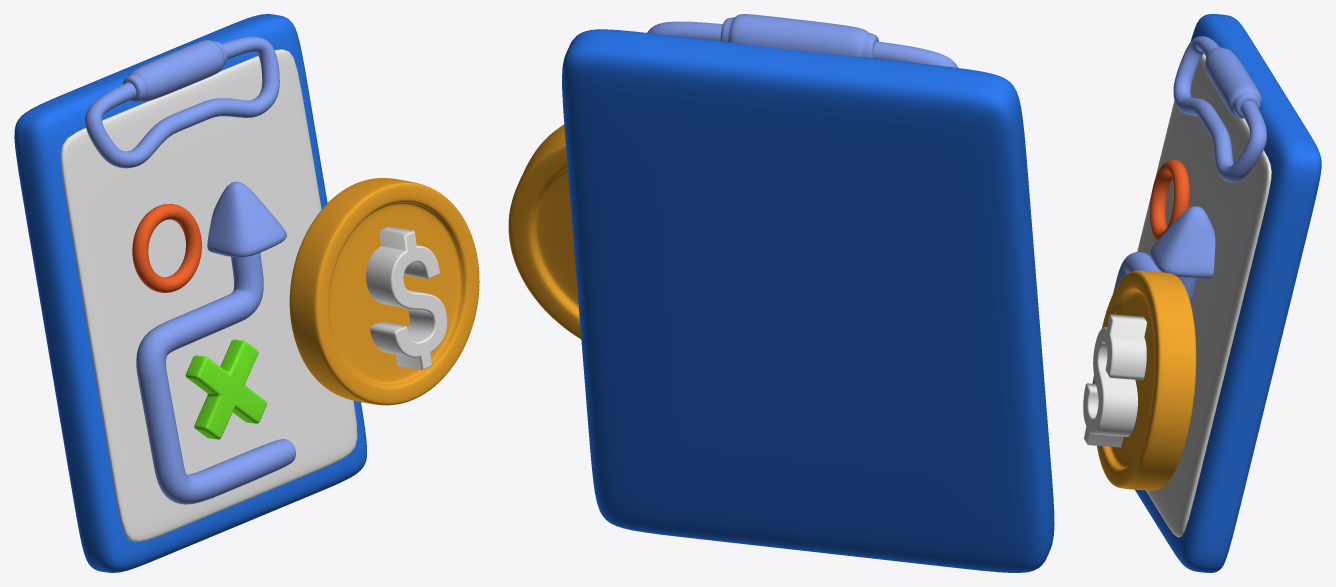
Rendered from pricing-strategy-3d-animated-icon-514913754821.glb.
The picture shows the model from 3 angles, left to right: view 1: azimuth 30°, elevation 25°; view 2: azimuth 150°, elevation 25°; view 3: azimuth 270°, elevation 25°; orthographic projection. The views are drawn at different scales.
Visible parts, largest first — view 1: board, coin, line, Clip arm, icon money, x, o, paper; view 2: board, coin, Clip arm; view 3: board, coin, Clip arm, icon money, line, o.
Boxes of the visible parts, <box> form: board: <box>14,14,366,572</box>; coin: <box>289,178,479,405</box>; line: <box>136,181,295,504</box>; Clip arm: <box>85,36,279,168</box>; icon money: <box>366,226,447,370</box>; x: <box>185,339,266,439</box>; o: <box>132,204,201,292</box>; paper: <box>60,49,352,538</box>; board: <box>562,29,1054,572</box>; coin: <box>508,124,581,339</box>; Clip arm: <box>647,14,958,67</box>; board: <box>1135,14,1321,572</box>; coin: <box>1094,270,1196,490</box>; Clip arm: <box>1173,36,1266,182</box>; icon money: <box>1083,314,1146,447</box>; line: <box>1092,206,1215,383</box>; o: <box>1150,159,1189,240</box>.
Size of what is drawn, in the model's own units: 2.93 by 2.94 by 1.46.
